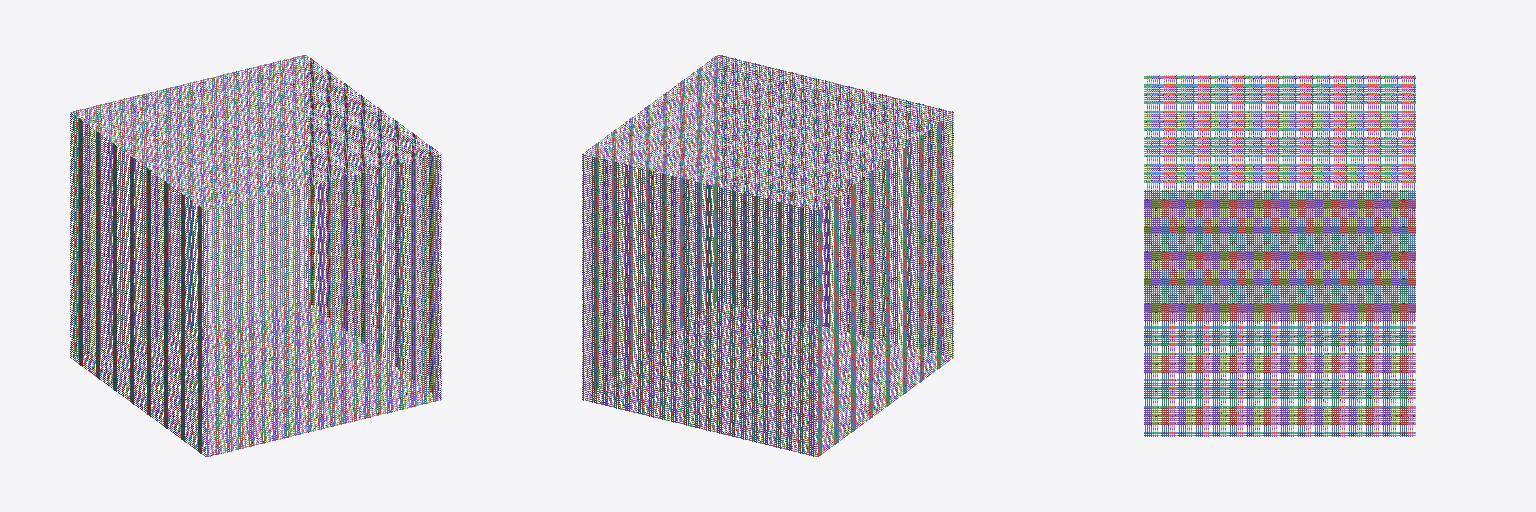
3 renders of one model, left to right at view 1: azimuth 30°, elevation 25°; view 2: azimuth 150°, elevation 25°; view 3: azimuth 270°, elevation 25°, orthographic.
Visible parts, largest first — view 1: cube; view 2: cube; view 3: cube.
Part boxes in pixels (x1,y1,x2,y2): cube: (70, 55, 441, 456); cube: (582, 55, 953, 456); cube: (1144, 75, 1415, 436).
Size of the model in its own units: 1 by 1 by 1.
1 materials, 1 textured.